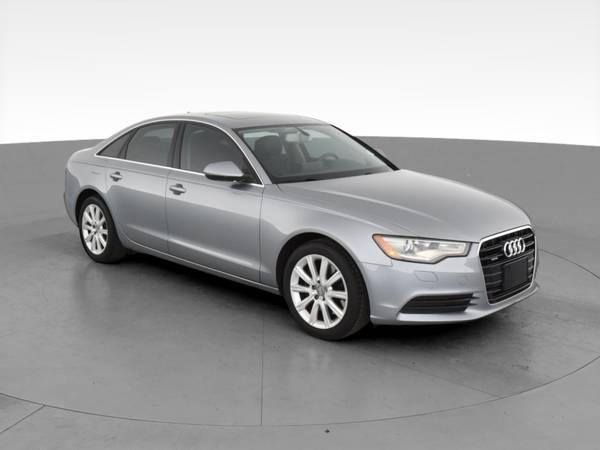Front_Fender: (261, 184, 394, 296)
Front_Right_Door: (167, 169, 264, 289)
Front_Right_Window: (173, 121, 266, 185)
Front_Windshield: (239, 125, 407, 184)
Grille: (476, 228, 538, 307)
Hood: (278, 170, 531, 240)
Rear_Fender: (62, 155, 101, 222)
Rear_Right_Door: (100, 156, 171, 259)
Rear_Right_Window: (100, 121, 183, 168)
Right_Headlight: (375, 233, 478, 264)
Roof: (75, 107, 335, 184)
Wheel: (359, 243, 490, 324), (281, 239, 370, 338), (76, 196, 127, 261)
